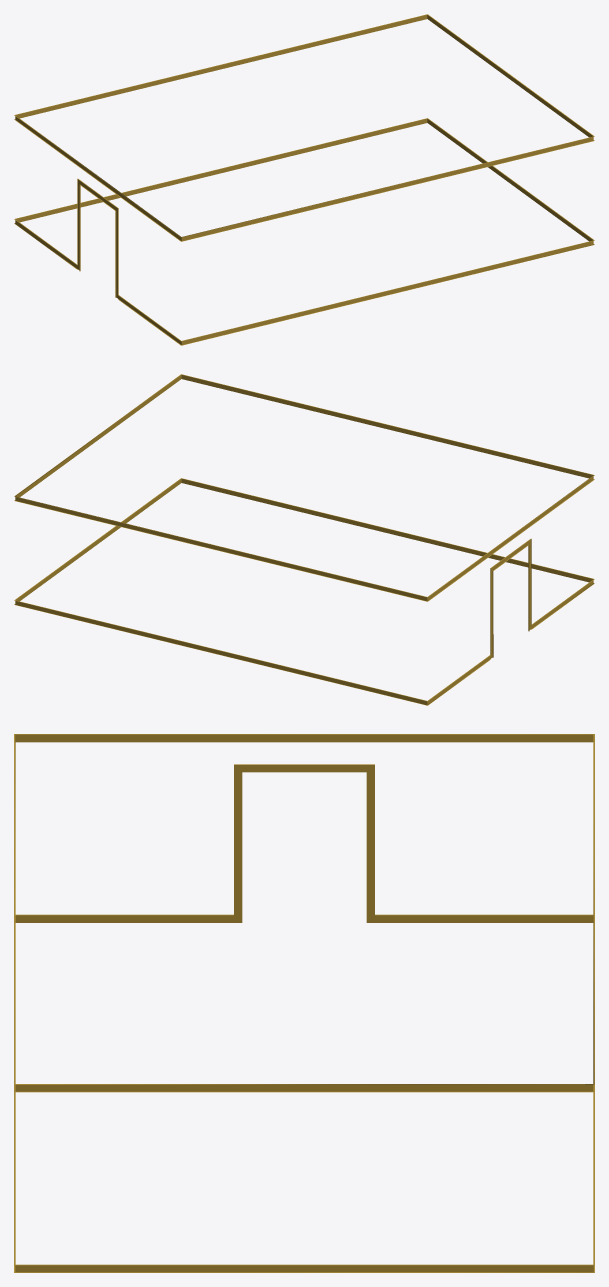
The model's file is panels.fbx.
The picture shows the model from 3 angles, top to bottom: view 1: azimuth 30°, elevation 25°; view 2: azimuth 150°, elevation 25°; view 3: azimuth 270°, elevation 25°; orthographic projection. The views are drawn at different scales.
Visible parts, largest first — view 1: panels; view 2: panels; view 3: panels.
Boxes of the visible parts, x1,y1,x2,y2 form: panels: (14,14,594,345); panels: (14,374,594,705); panels: (14,734,594,1272).
Bounding box in the file's own units: 1000 × 250 × 700.
